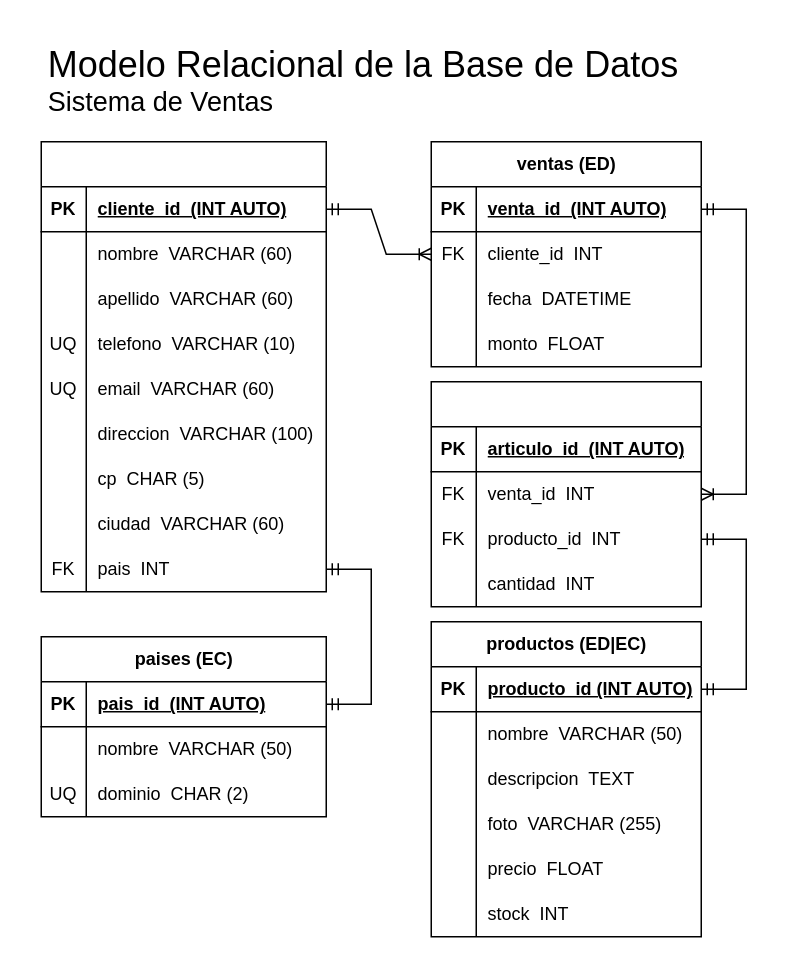
Image size: 786x963. Some labels were removed from this diagram. The shapes that lost their labels are listed below. From the top down, each one's box as (x1, y1, x2, y2) in pixels, then its label:
(40, 140, 326, 592): clientes (ED)
(430, 380, 701, 607): articulos_x_venta (EP)
